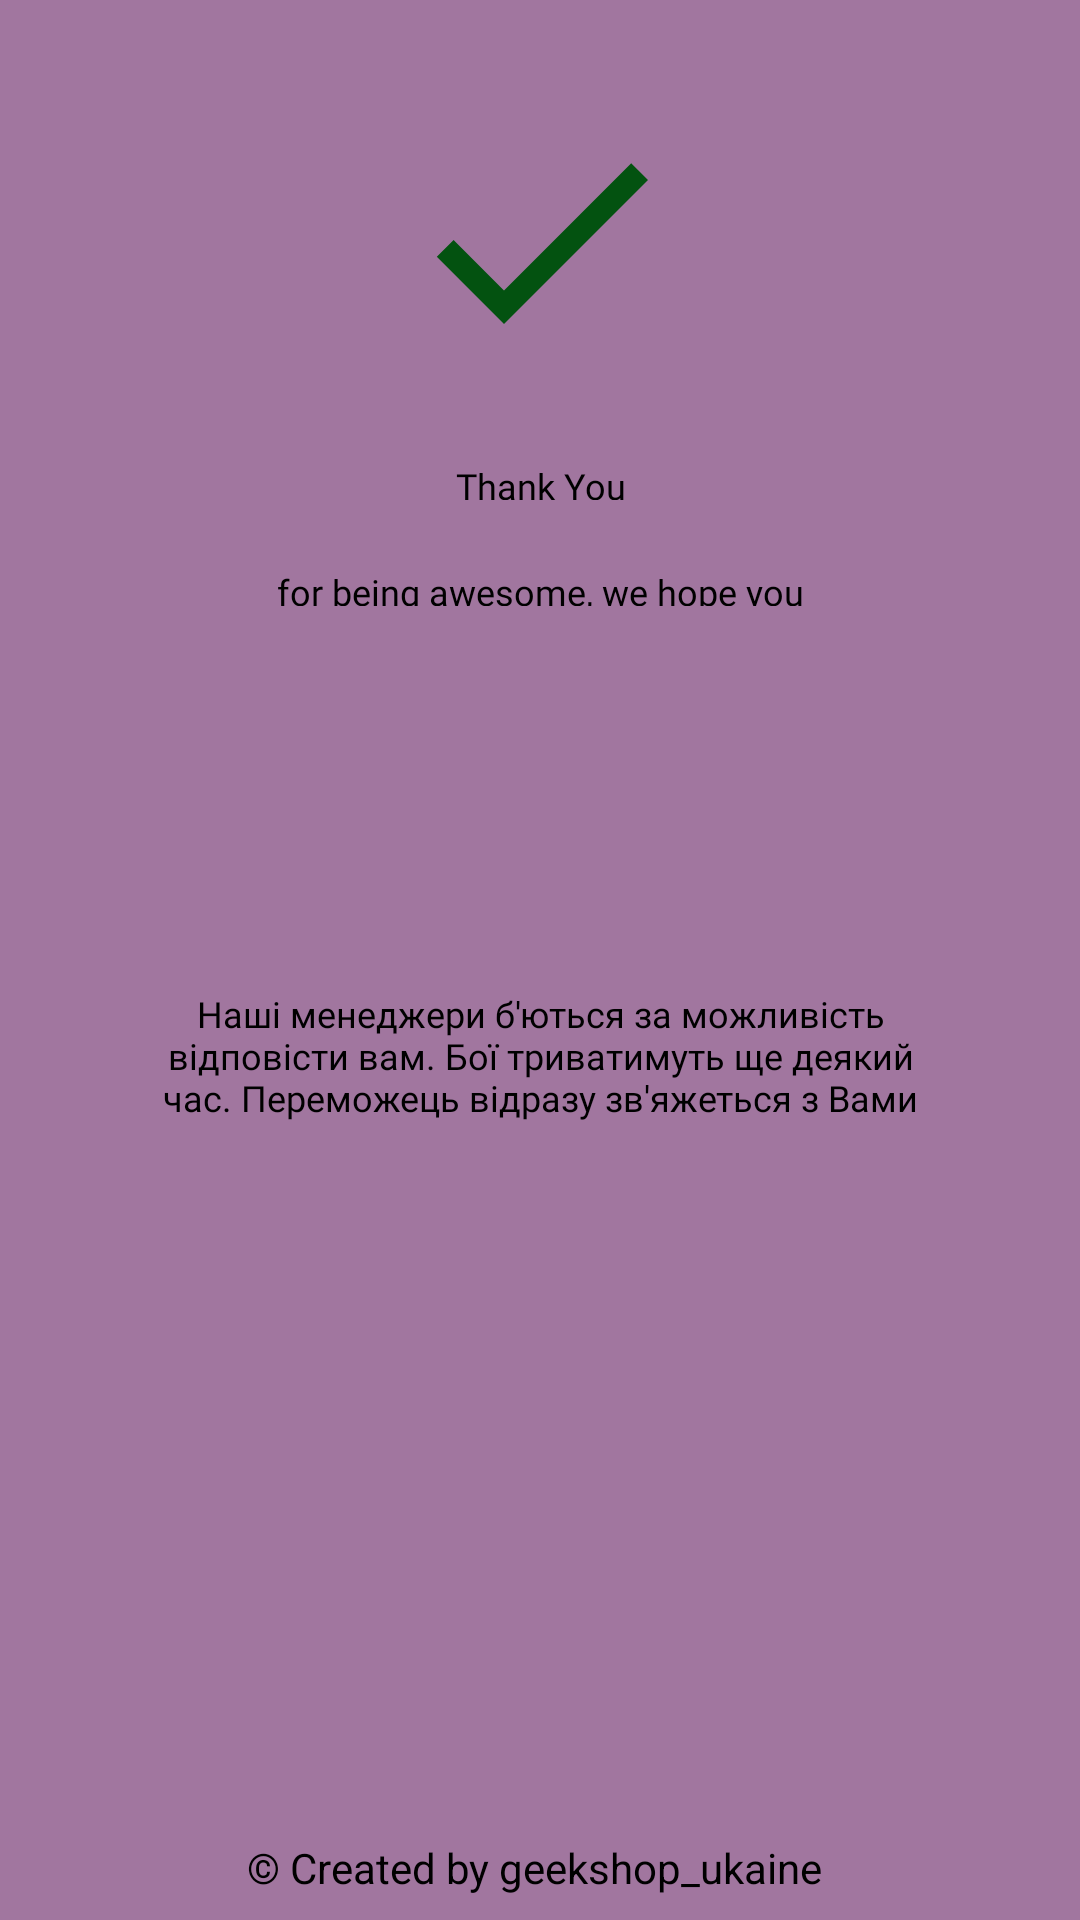

Icon bounding boxes for this 1080 × 1920 phone screenshot, format (x1, y1, x2, y2):
done: (437, 163, 648, 324)
